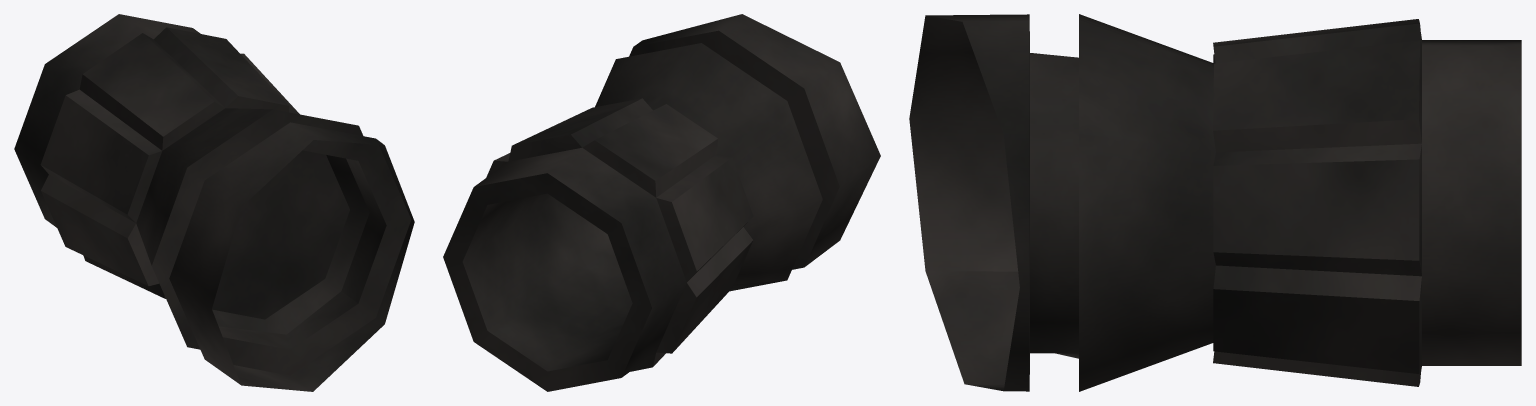
The model's file is e_port_outer_engine_d_model.fbx.
3 renders of one model, left to right at view 1: azimuth 30°, elevation 25°; view 2: azimuth 150°, elevation 25°; view 3: azimuth 270°, elevation 25°, orthographic. The views are drawn at different scales.
Visible parts, largest first — view 1: portFarEngine1; view 2: portFarEngine1; view 3: portFarEngine1.
Part boxes in pixels (<box>): portFarEngine1: <box>14,14,414,391</box>; portFarEngine1: <box>443,14,880,391</box>; portFarEngine1: <box>909,14,1521,391</box>.
Size of the model in its own units: 1708 by 1708 by 2600.
1 material, 1 textured.
